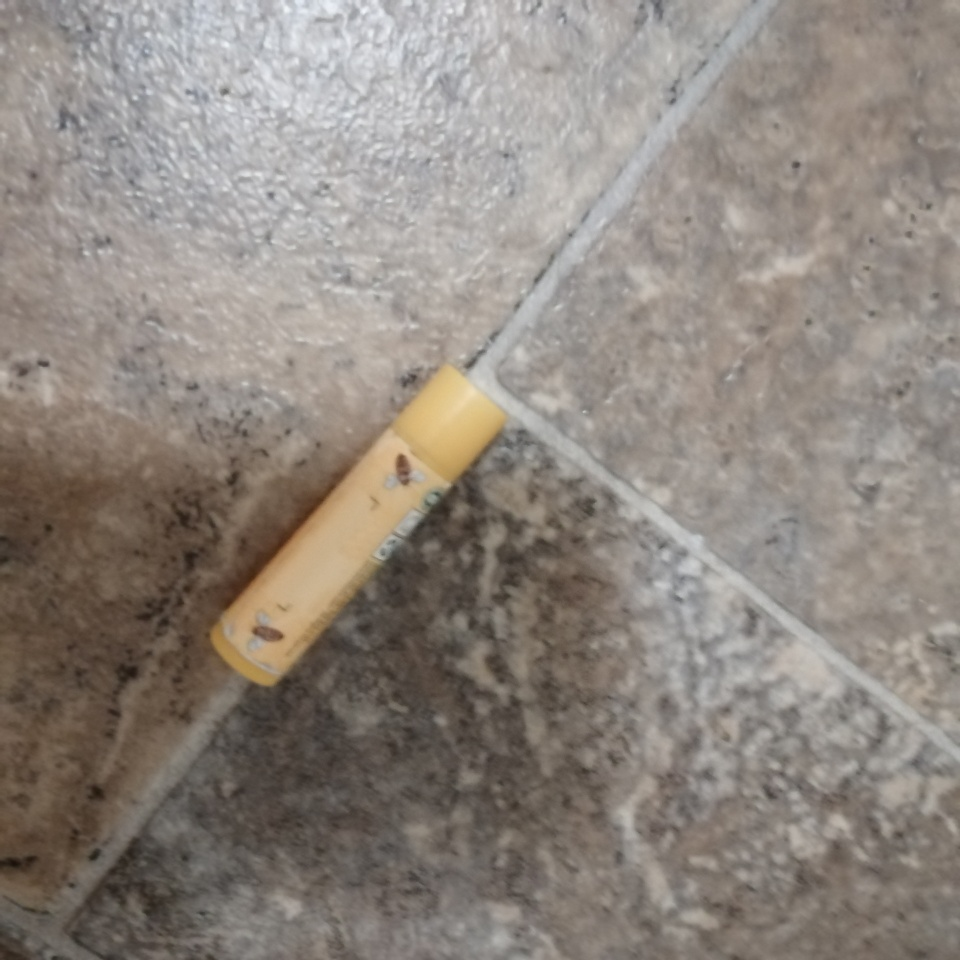chapstick: (210, 361, 506, 686)
